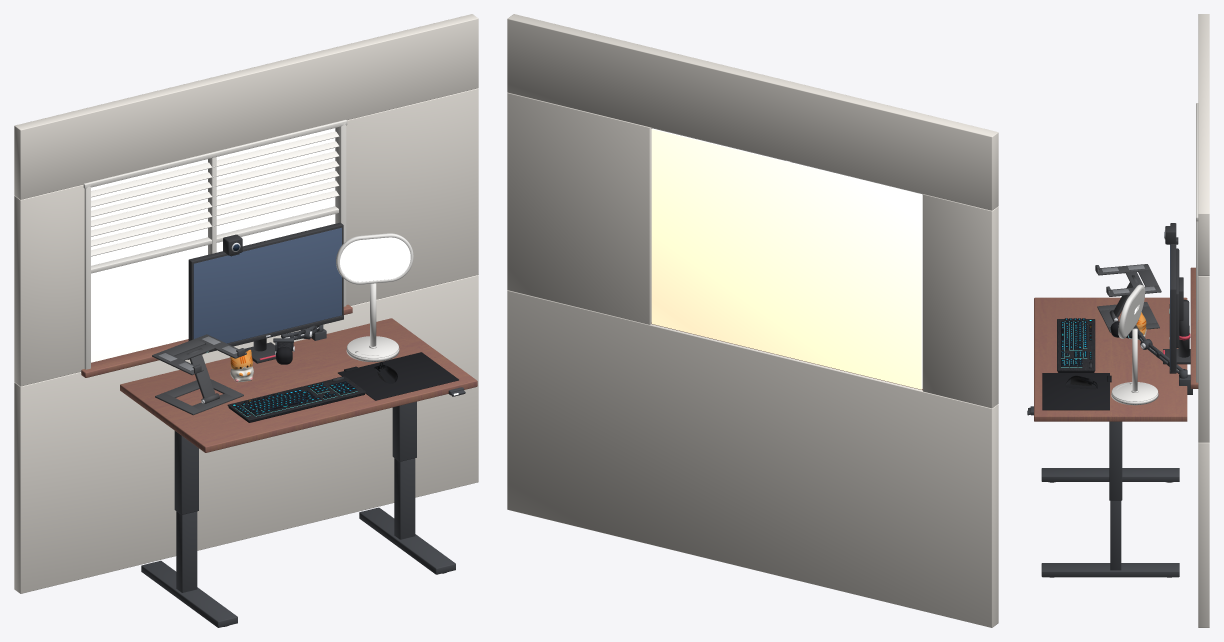
Rendered from desk_props.glb.
The picture shows the model from 3 angles, left to right: view 1: azimuth 30°, elevation 25°; view 2: azimuth 150°, elevation 25°; view 3: azimuth 270°, elevation 25°; orthographic projection. The views are drawn at different scales.
Parts seen in each view (by area): view 1: OakDeskTabletop, LGUltraGearMonitor, WhiteKeyLightLamp, BoYataLaptopStand, RazerMatAndGamingMouse, LogitechG915Keyboard, BoomArmAndBlueMic; view 2: OakDeskTabletop; view 3: OakDeskTabletop, RazerMatAndGamingMouse, LGUltraGearMonitor, LogitechG915Keyboard, WhiteKeyLightLamp, BoYataLaptopStand, BoomArmAndBlueMic.
Part boxes in pixels (x1,y1,x2,y2): OakDeskTabletop: (14,14,478,627); LGUltraGearMonitor: (188,222,343,363); WhiteKeyLightLamp: (336,233,413,361); BoYataLaptopStand: (152,334,246,415); RazerMatAndGamingMouse: (338,352,458,400); LogitechG915Keyboard: (227,376,366,422); BoomArmAndBlueMic: (273,324,326,364); OakDeskTabletop: (507,14,998,627); OakDeskTabletop: (1027,14,1209,627); RazerMatAndGamingMouse: (1042,373,1111,410); LGUltraGearMonitor: (1163,223,1190,373); LogitechG915Keyboard: (1057,318,1095,372); WhiteKeyLightLamp: (1111,284,1158,405); BoYataLaptopStand: (1095,264,1161,332); BoomArmAndBlueMic: (1110,321,1192,394).
Bounding box in the file's own units: 1.85 × 1.79 × 0.714.
Materials: 29 (7 with a texture image).
